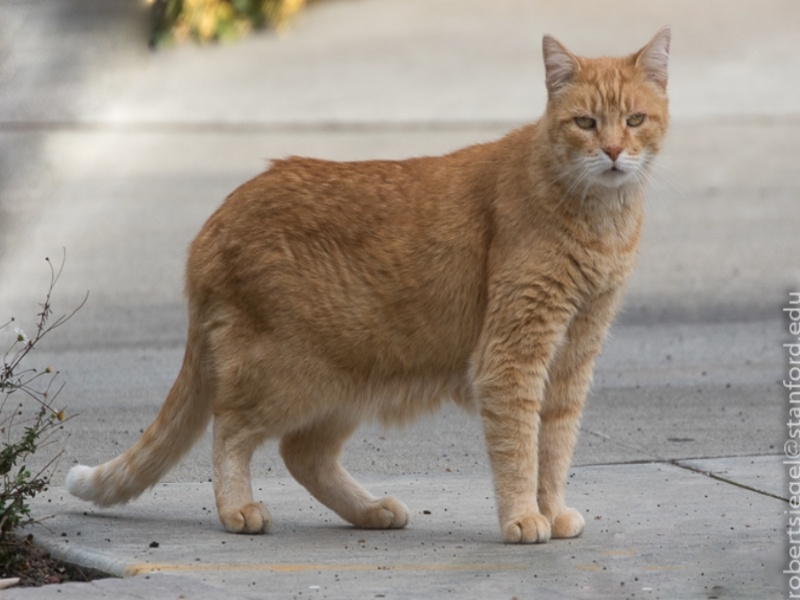cat: (65, 23, 679, 558)
